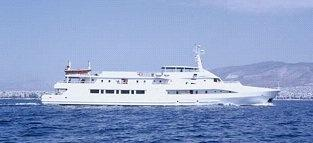yacht: (45, 56, 282, 106)
